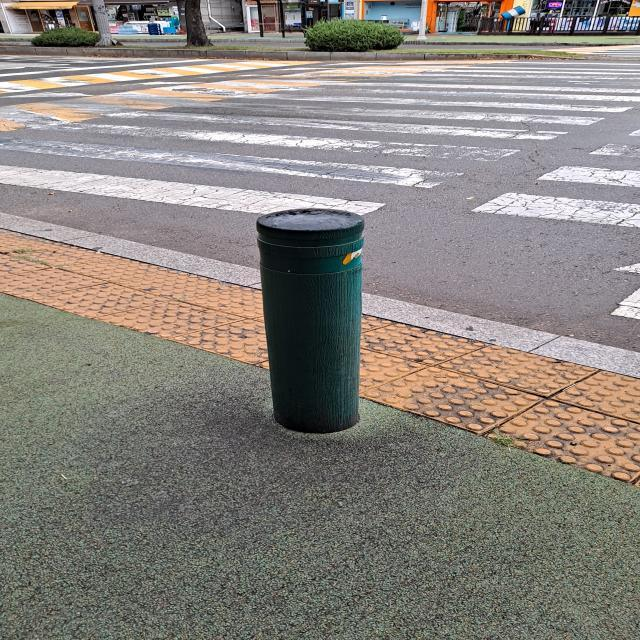pole: (255, 208, 364, 434)
